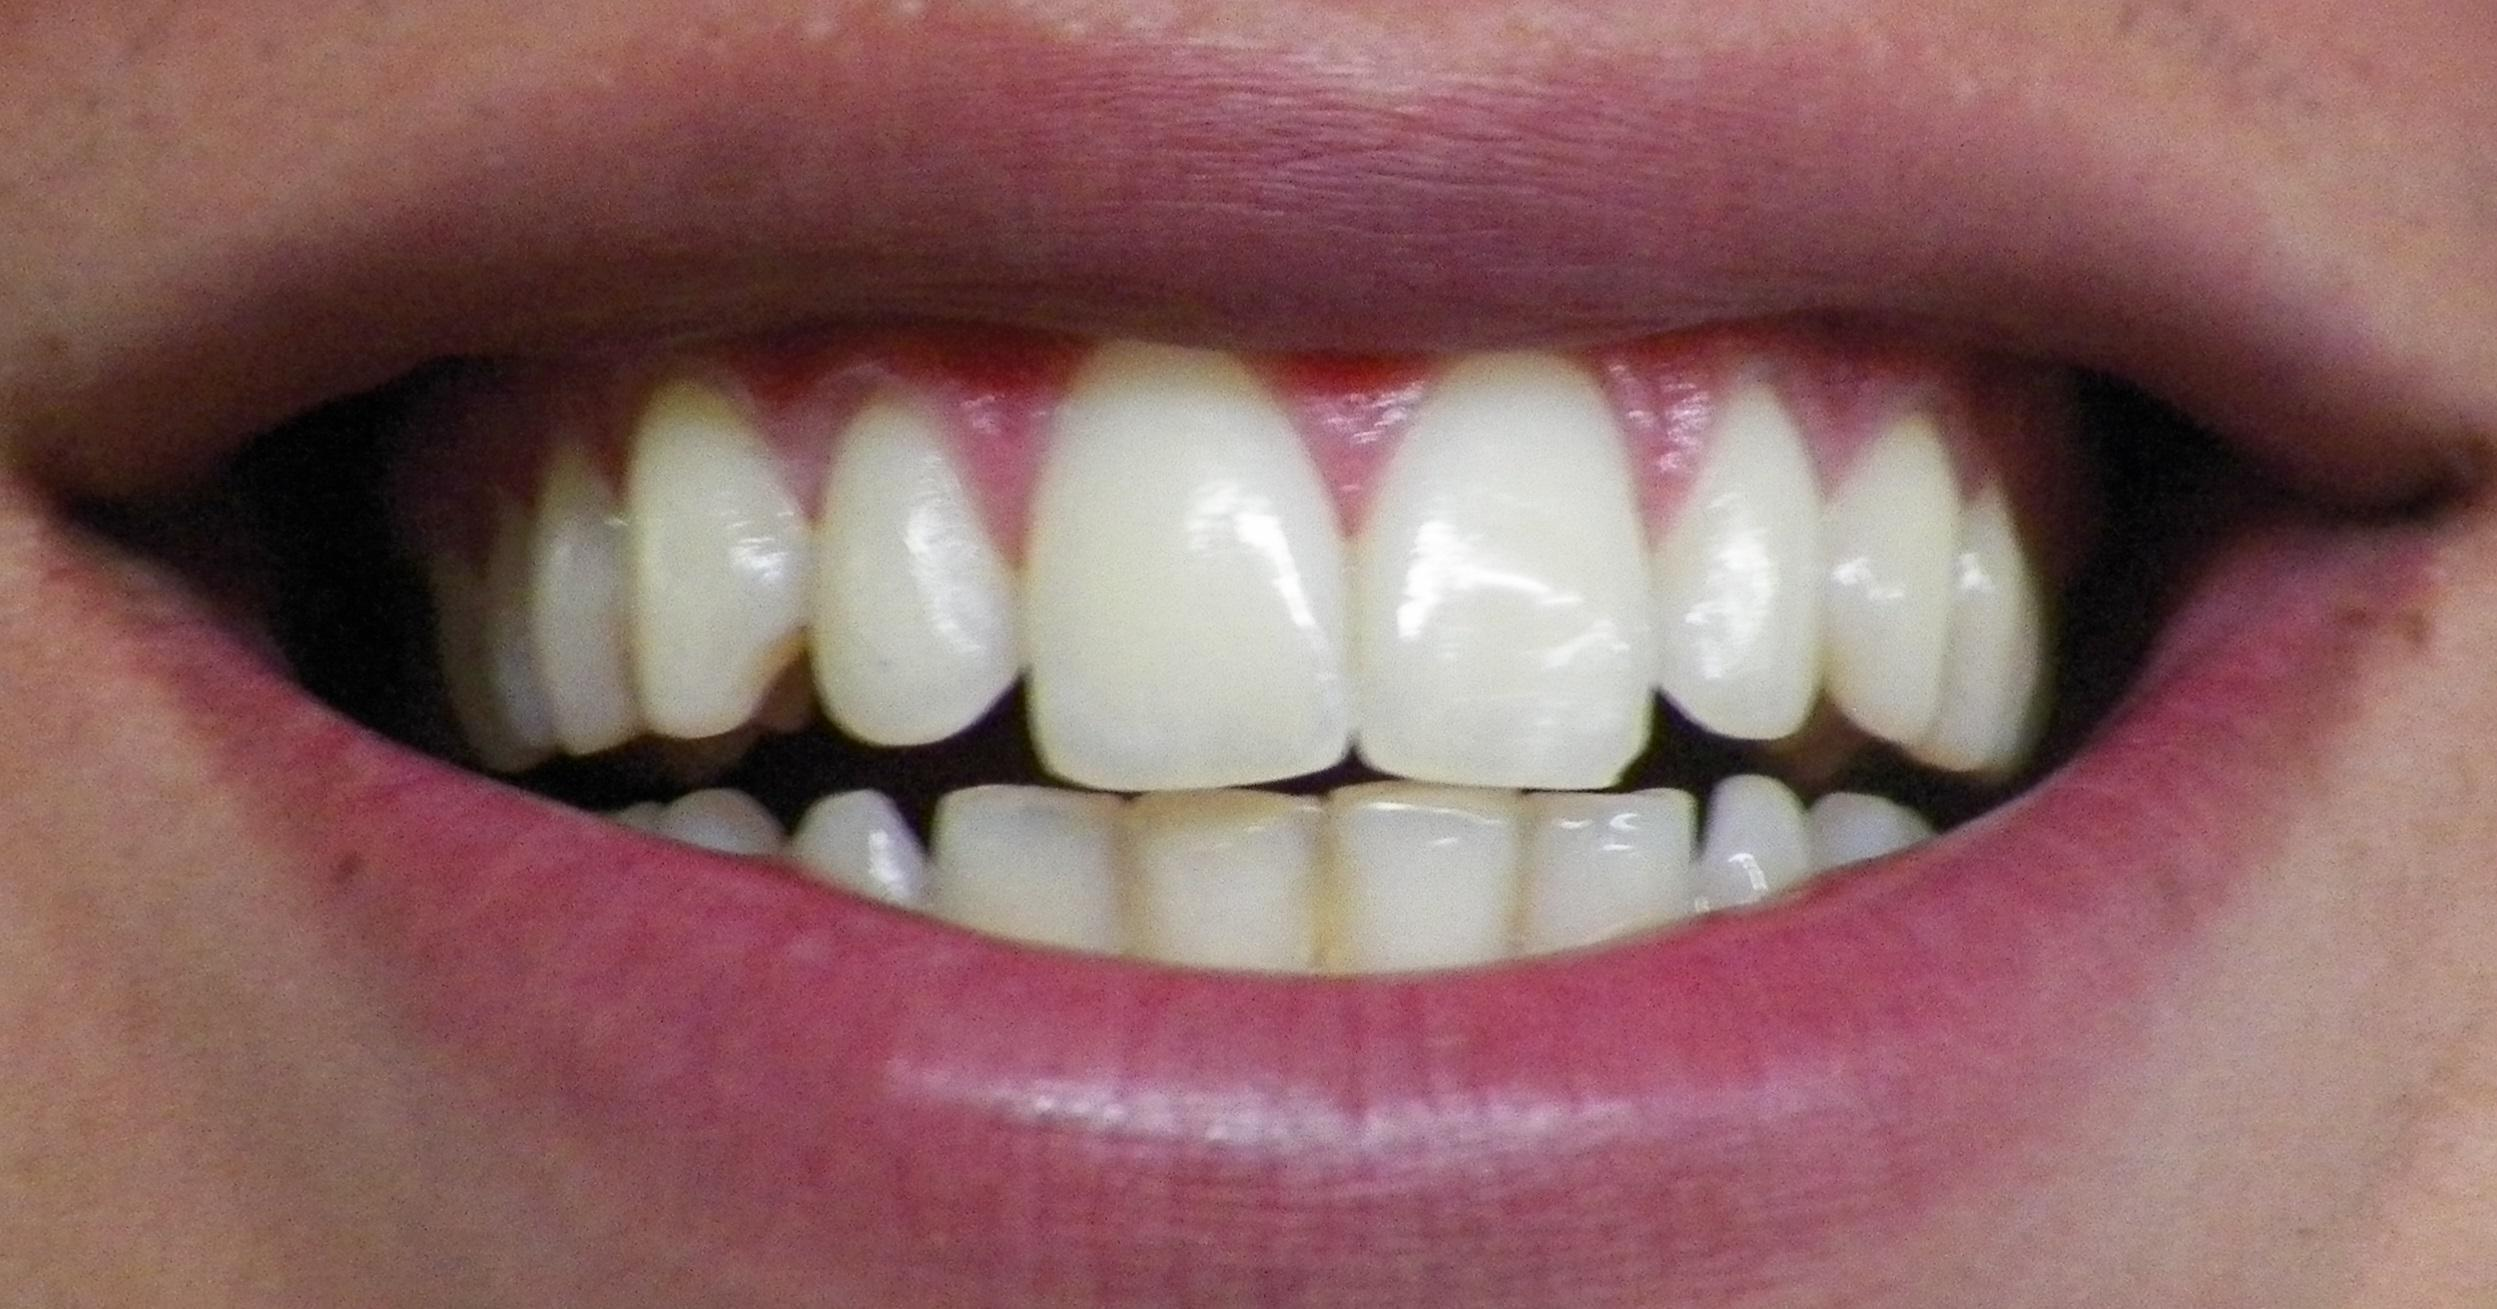cavity: (1323, 779, 1531, 981), (1115, 787, 1324, 971)
normal: (1026, 342, 1346, 796), (1354, 345, 1655, 791), (814, 398, 1029, 751), (624, 373, 808, 741), (1663, 381, 1825, 741), (1817, 414, 1965, 749), (515, 439, 646, 754), (1914, 475, 2043, 776), (928, 781, 1125, 972), (1523, 787, 1694, 962), (781, 792, 933, 911), (1689, 769, 1812, 911), (1800, 781, 1942, 877), (651, 784, 793, 867)
